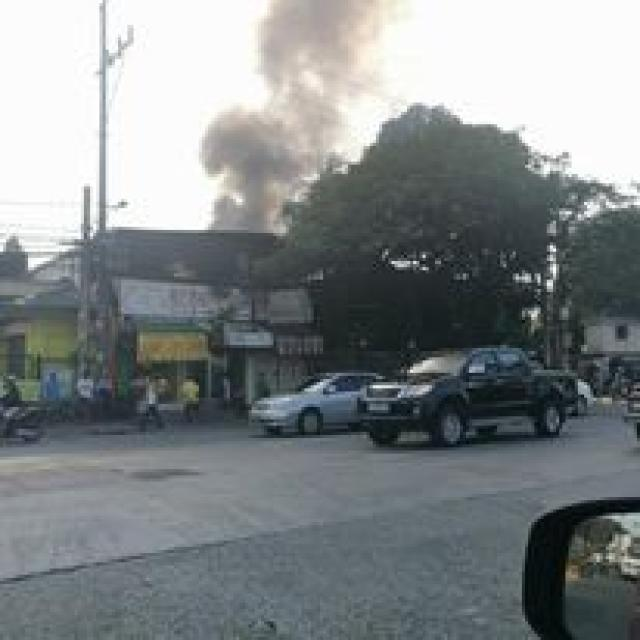Smoke: (205, 0, 371, 242)
